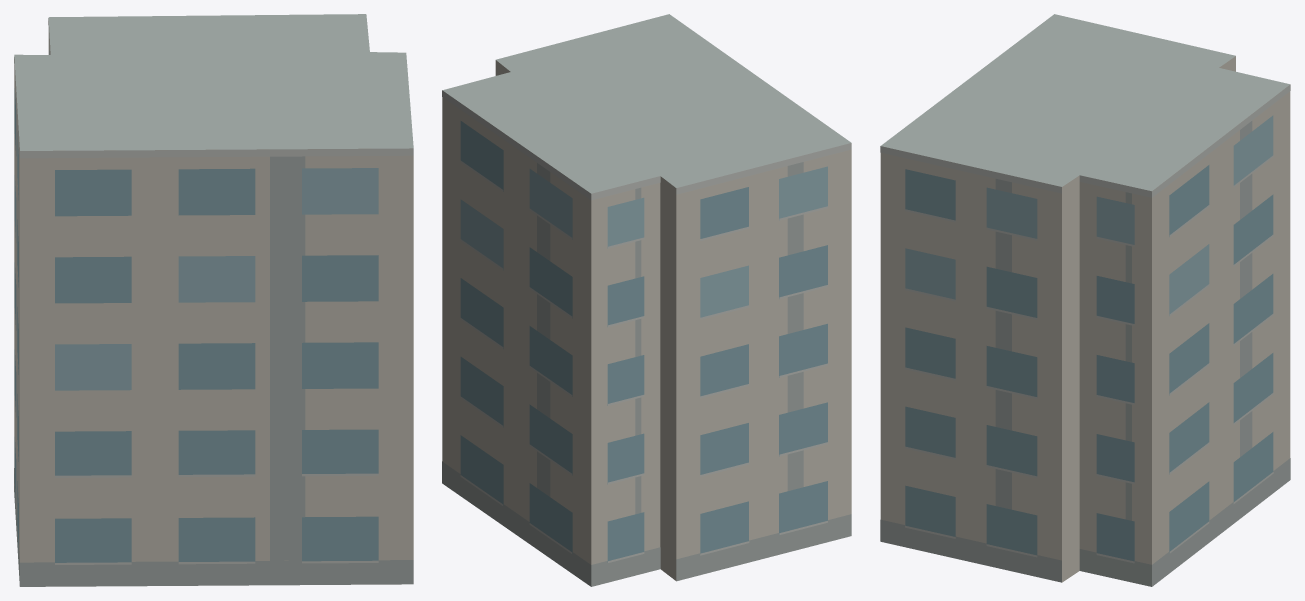
Rendered from survey-upis-32846937.glb.
The picture shows the model from 3 angles, left to right: view 1: azimuth 30°, elevation 25°; view 2: azimuth 150°, elevation 25°; view 3: azimuth 270°, elevation 25°; orthographic projection. The views are drawn at different scales.
Parts seen in each view (by area): view 1: survey-upis-32846937.tmp; view 2: survey-upis-32846937.tmp; view 3: survey-upis-32846937.tmp.
Part boxes in pixels (x1,y1,x2,y2): survey-upis-32846937.tmp: (14,14,413,586); survey-upis-32846937.tmp: (442,14,851,586); survey-upis-32846937.tmp: (880,14,1290,586).
Bounding box in the file's own units: 13.94 × 14.5 × 13.63.
